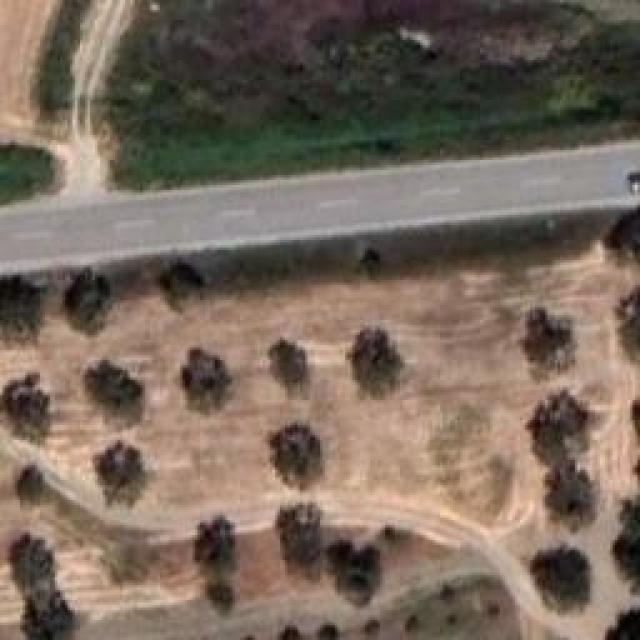Tree: (518, 540, 592, 611), (275, 498, 327, 583), (347, 317, 405, 388), (518, 310, 579, 377), (92, 433, 151, 500), (80, 353, 142, 416), (528, 390, 592, 450), (328, 540, 389, 602), (5, 375, 58, 445), (265, 420, 324, 481), (185, 515, 242, 578), (63, 267, 114, 337), (543, 465, 602, 524), (150, 255, 208, 315), (175, 350, 233, 406), (265, 333, 313, 400), (13, 590, 75, 640), (0, 535, 55, 585), (0, 278, 44, 339), (604, 200, 640, 268), (613, 498, 640, 583), (616, 284, 640, 370), (200, 573, 243, 617), (10, 460, 49, 507), (597, 602, 640, 639), (436, 578, 461, 605), (400, 610, 424, 633), (360, 611, 379, 640), (317, 617, 339, 639), (481, 599, 503, 621), (440, 612, 457, 631), (283, 625, 306, 639)
